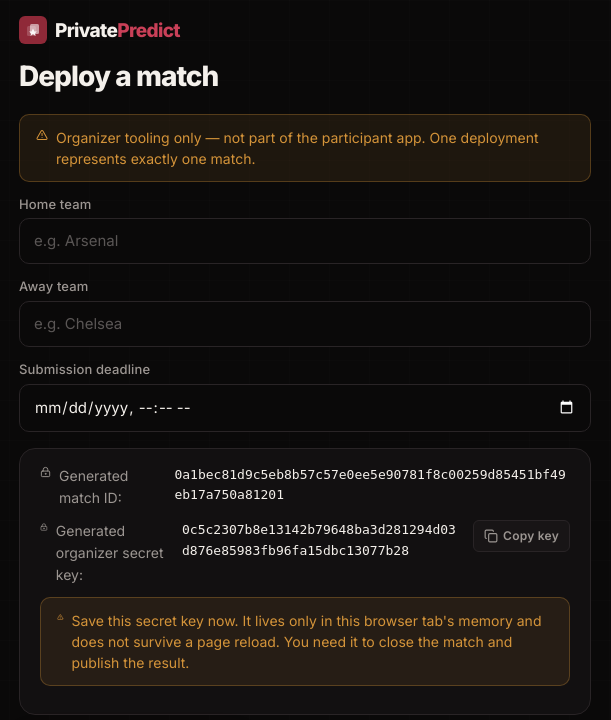
Test: DeployApp › disables the deploy button until team names and a deadline are filled in
Type "Team A" into the field labelled "Home team" at point(305, 241), box [19,218,591,264]
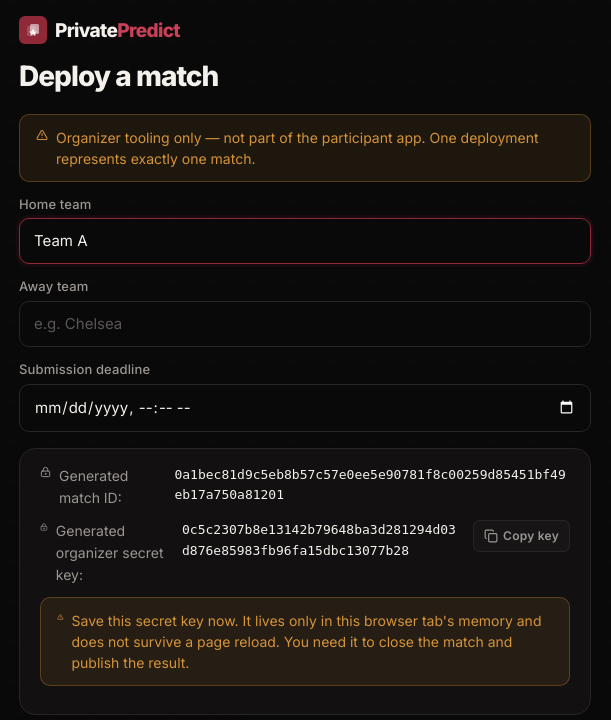
Type "Team B" into the field labelled "Away team" at point(305, 324), box [19,301,591,347]
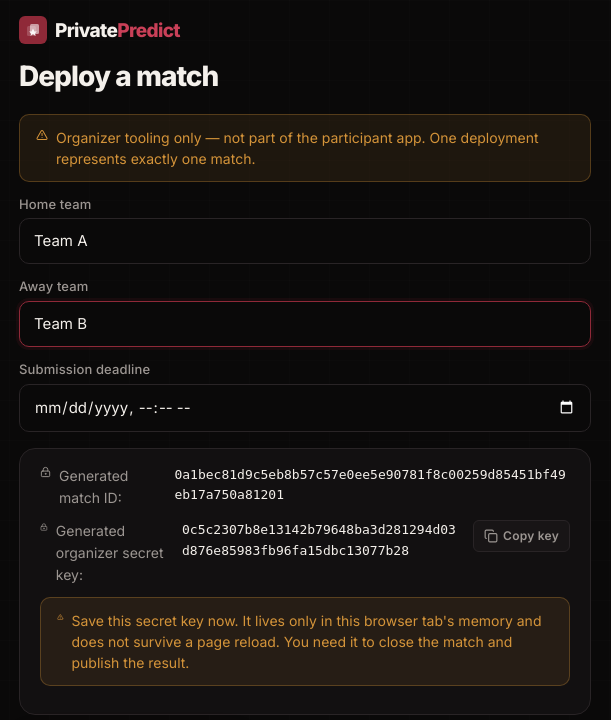
Type "2030-01-01T00:00" into the field labelled "Submission deadline" at point(305, 408), box [19,384,591,432]
(page scrolled)
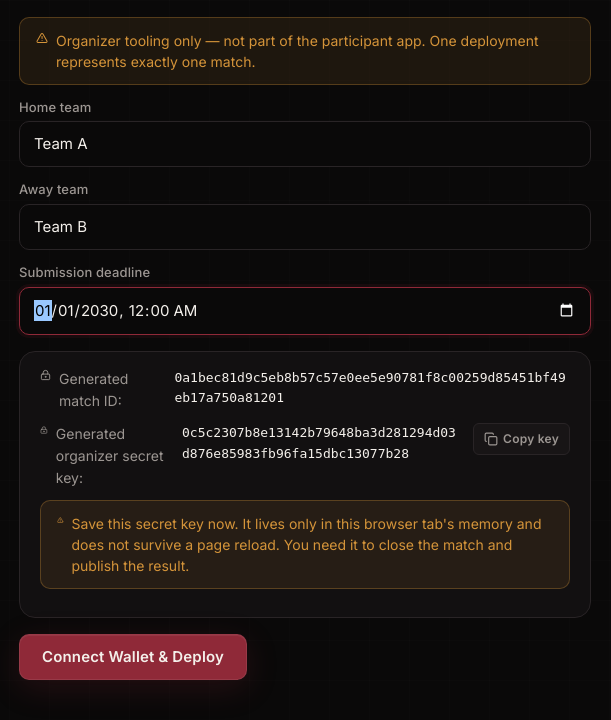
Expected: the button "Connect Wallet & Deploy" is enabled, [19,634,247,680]
